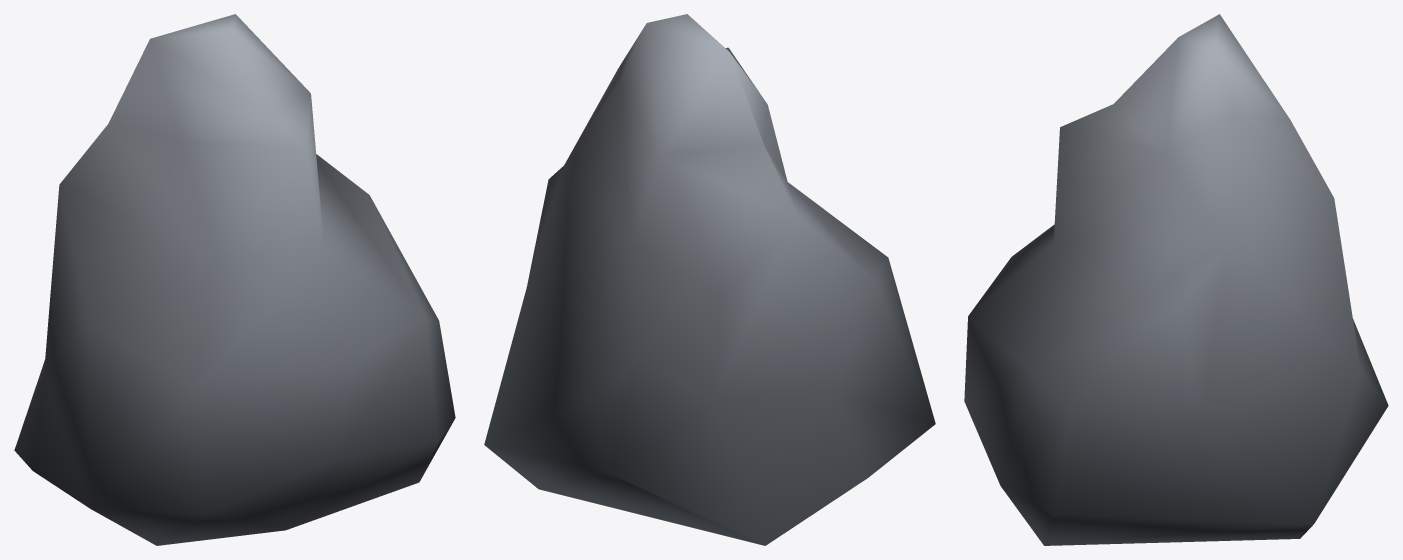
The model's file is rock3.fbx.
The picture shows the model from 3 angles, left to right: view 1: azimuth 30°, elevation 25°; view 2: azimuth 150°, elevation 25°; view 3: azimuth 270°, elevation 25°; orthographic projection. The views are drawn at different scales.
Parts seen in each view (by area): view 1: rock3; view 2: rock3; view 3: rock3.
Boxes of the visible parts, x1,y1,x2,y2 form: rock3: (14, 14, 455, 545); rock3: (484, 14, 935, 545); rock3: (964, 14, 1388, 545).
Bounding box in the file's own units: 191 × 230 × 192.
